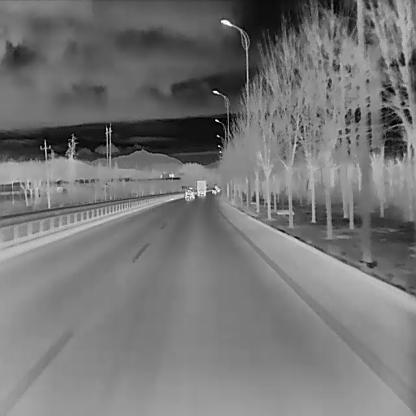car: (196, 180, 206, 196), (184, 186, 195, 199), (212, 187, 217, 193)
